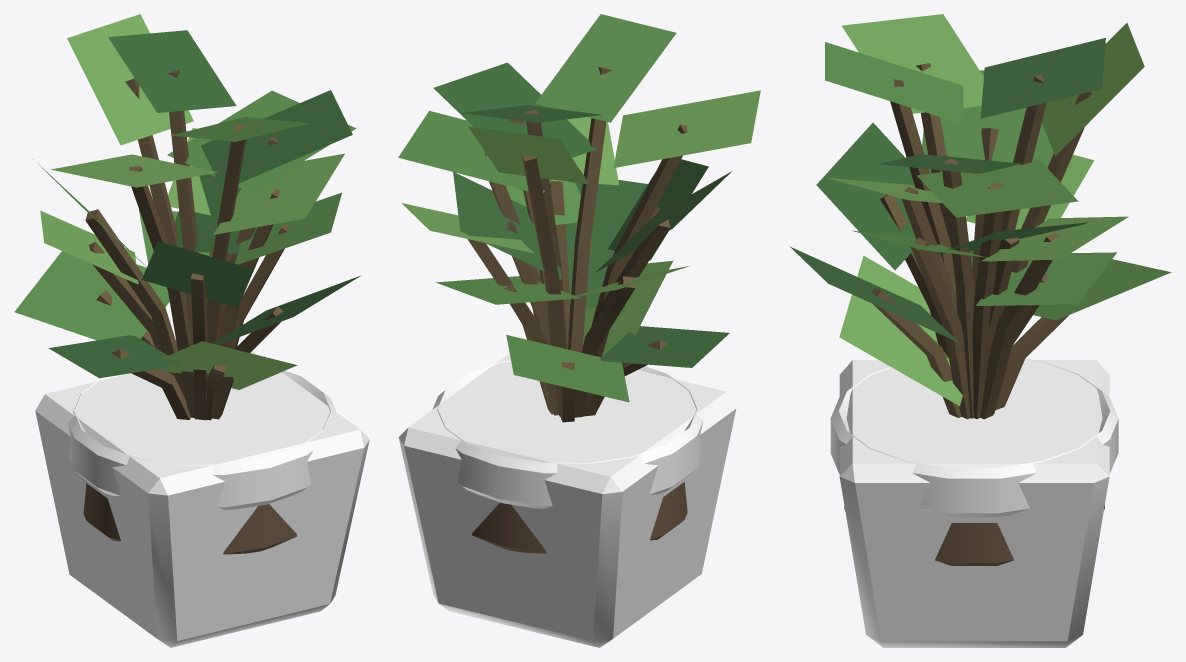
File: plant-pot-small.glb
3 views of the same model, side by side, from view 1: azimuth 30°, elevation 25°; view 2: azimuth 150°, elevation 25°; view 3: azimuth 270°, elevation 25° (orthographic). The views are drawn at different scales.
Visible parts, largest first — view 1: plant-pot-small.tint, plant-pot-small.foliage3, plant-pot-small.stem, plant-pot-small.foliage2, plant-pot-small.foliage, plant-pot-small.soil; view 2: plant-pot-small.tint, plant-pot-small.foliage, plant-pot-small.foliage3, plant-pot-small.stem, plant-pot-small.foliage2, plant-pot-small.soil; view 3: plant-pot-small.tint, plant-pot-small.stem, plant-pot-small.foliage2, plant-pot-small.foliage, plant-pot-small.foliage3, plant-pot-small.soil.
Part boxes in pixels (<box>): plant-pot-small.tint: <box>35,351,369,647</box>; plant-pot-small.foliage3: <box>48,30,360,378</box>; plant-pot-small.stem: <box>85,70,288,420</box>; plant-pot-small.foliage2: <box>40,14,344,389</box>; plant-pot-small.foliage: <box>14,90,356,340</box>; plant-pot-small.soil: <box>83,483,296,554</box>; plant-pot-small.tint: <box>398,353,736,647</box>; plant-pot-small.foliage: <box>398,14,731,402</box>; plant-pot-small.foliage3: <box>433,62,729,367</box>; plant-pot-small.stem: <box>467,66,687,422</box>; plant-pot-small.foliage2: <box>402,90,760,356</box>; plant-pot-small.soil: <box>472,482,687,553</box>; plant-pot-small.tint: <box>830,358,1118,647</box>; plant-pot-small.stem: <box>872,63,1092,419</box>; plant-pot-small.foliage2: <box>826,14,1144,406</box>; plant-pot-small.foliage: <box>825,42,1170,320</box>; plant-pot-small.foliage3: <box>789,38,1105,342</box>; plant-pot-small.soil: <box>844,505,1104,565</box>.
Bounding box in the file's own units: 0.25 × 0.4 × 0.25.
